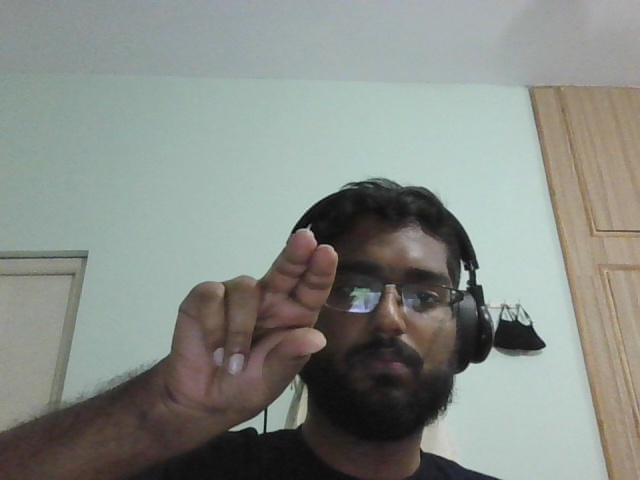No: (166, 229, 354, 429)
